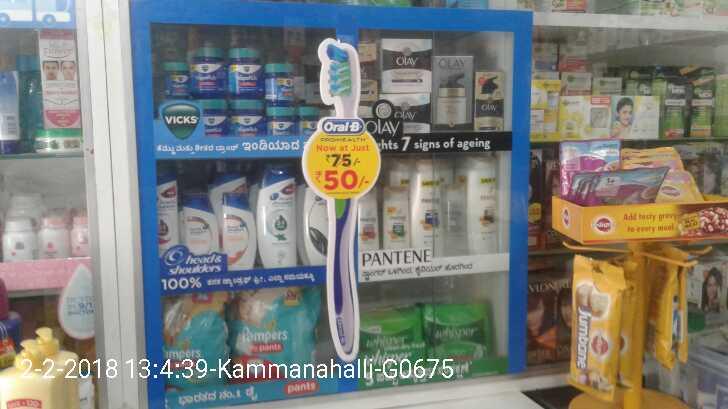beauty: (255, 167, 302, 268), (408, 162, 447, 258), (465, 155, 500, 253), (379, 37, 432, 93), (220, 191, 257, 268), (433, 55, 471, 128), (179, 197, 219, 258), (473, 69, 506, 131), (383, 187, 411, 249)
pharmacy: (232, 292, 316, 375), (164, 298, 229, 390), (417, 300, 495, 357), (356, 312, 425, 359), (187, 45, 229, 97), (227, 45, 266, 97), (263, 60, 297, 105), (228, 98, 268, 136), (161, 60, 192, 99), (266, 103, 298, 136)
